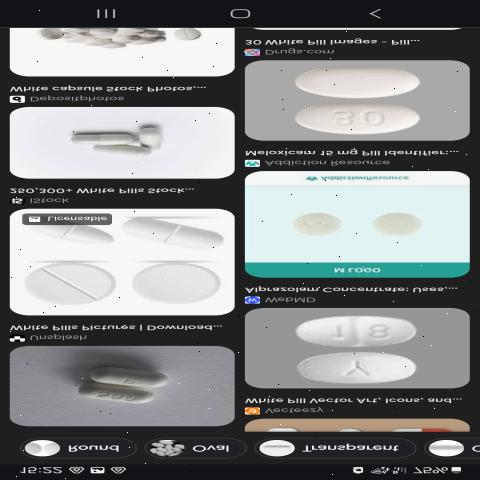Pill: (286, 60, 452, 107), (260, 311, 455, 349), (282, 349, 445, 392), (126, 206, 244, 255), (289, 101, 437, 140), (122, 260, 231, 309), (22, 259, 118, 310), (364, 204, 454, 243), (73, 382, 159, 418), (285, 204, 349, 244), (98, 362, 186, 389), (67, 127, 162, 145)
